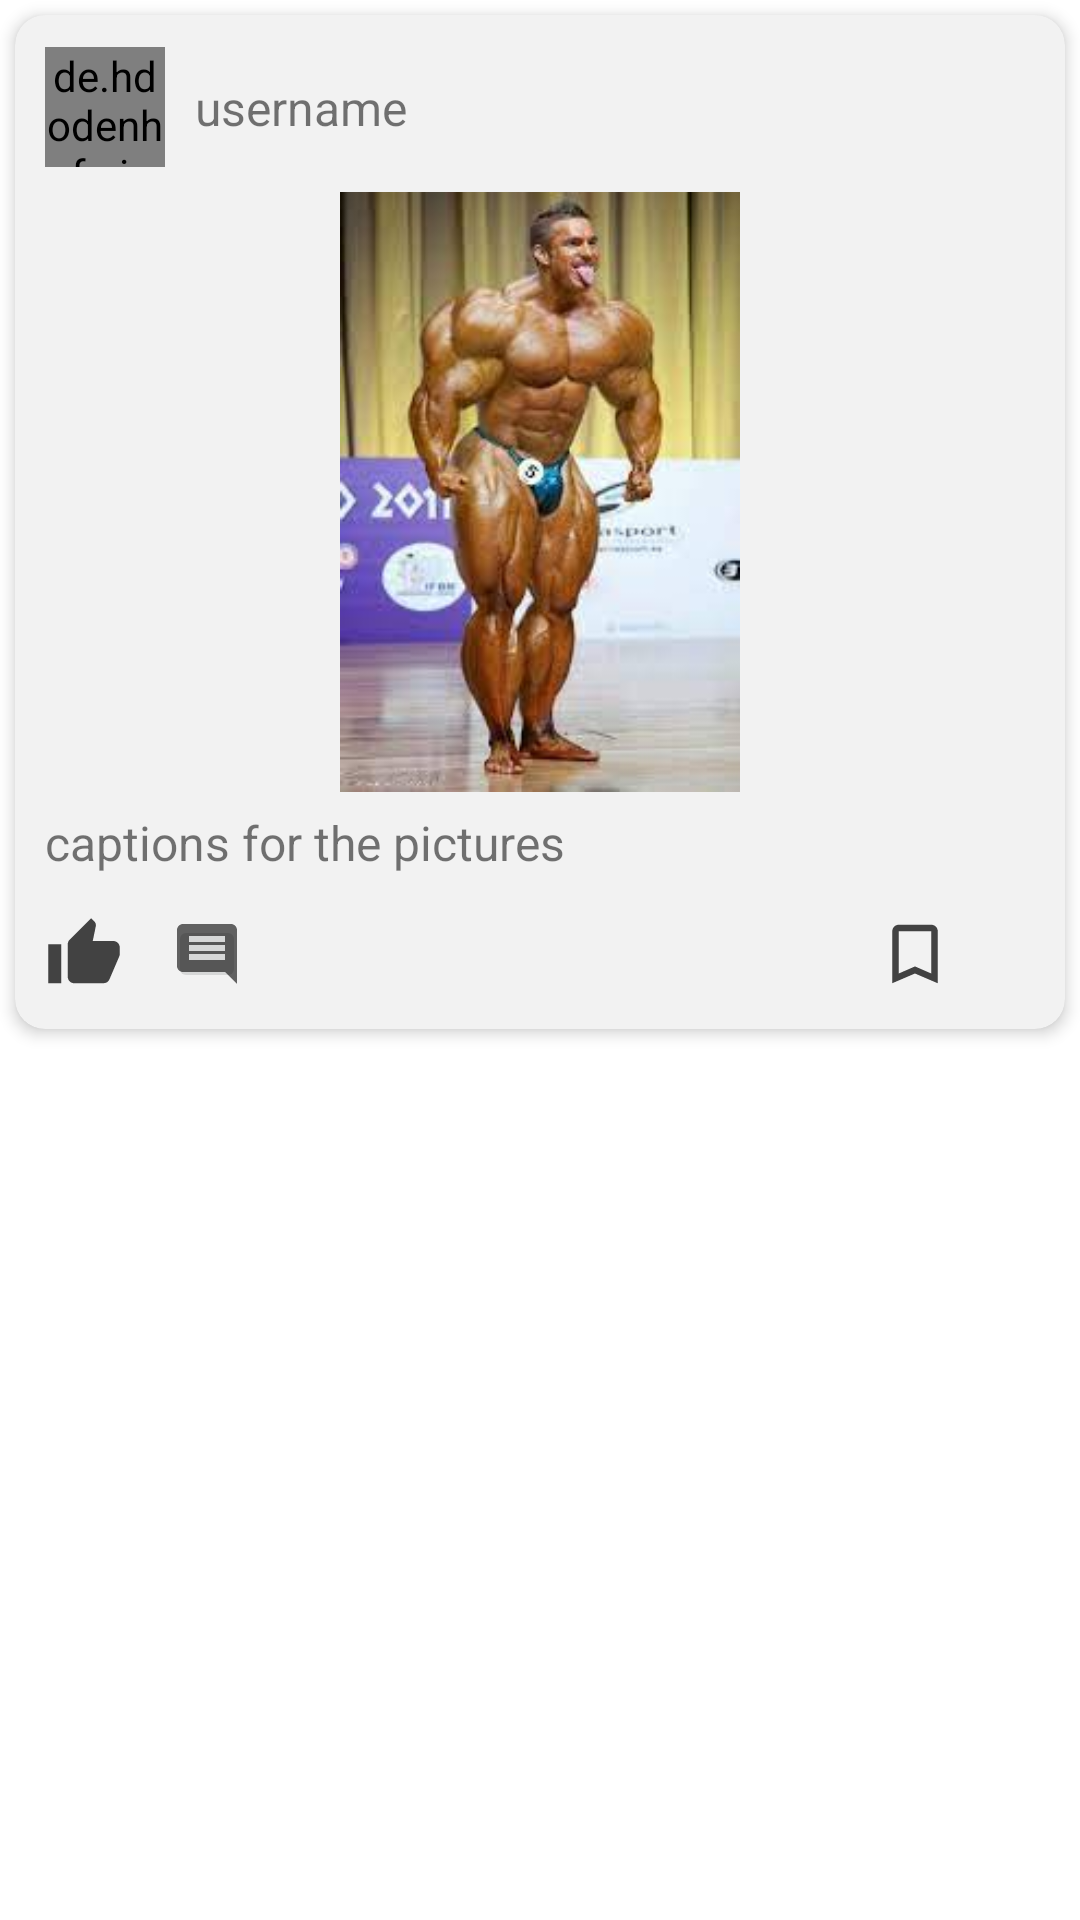

Icons on this 1080x1920 Android screen, each with the point to tap as point (x, y):
bookmark: point (915, 953)
comment: point (207, 954)
likebutton: point (84, 951)
